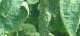Tomato mold leaf: (0, 0, 33, 34), (59, 0, 80, 36)
